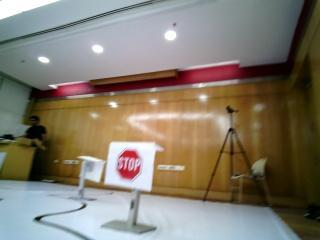stop: (108, 143, 145, 185)
